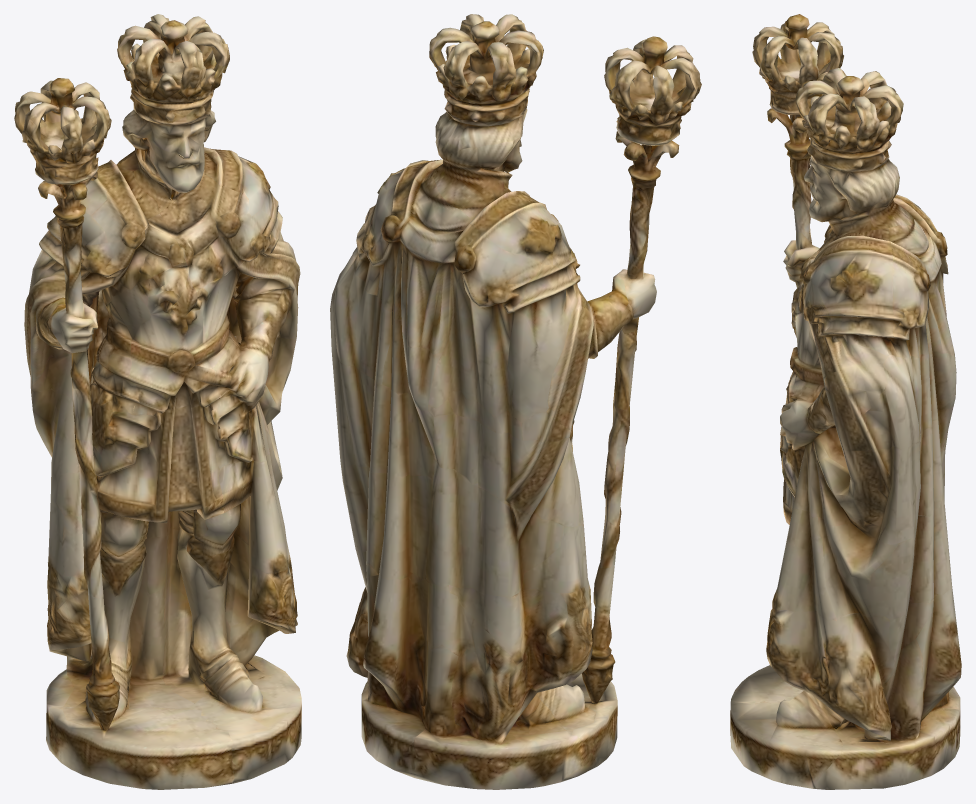
Rendered from king.glb.
The picture shows the model from 3 angles, left to right: view 1: azimuth 30°, elevation 25°; view 2: azimuth 150°, elevation 25°; view 3: azimuth 270°, elevation 25°; orthographic projection. The views are drawn at different scales.
Bounding box in the file's own units: 0.8664 × 1.9 × 0.5986.
Materials: 1 (1 with a texture image).
